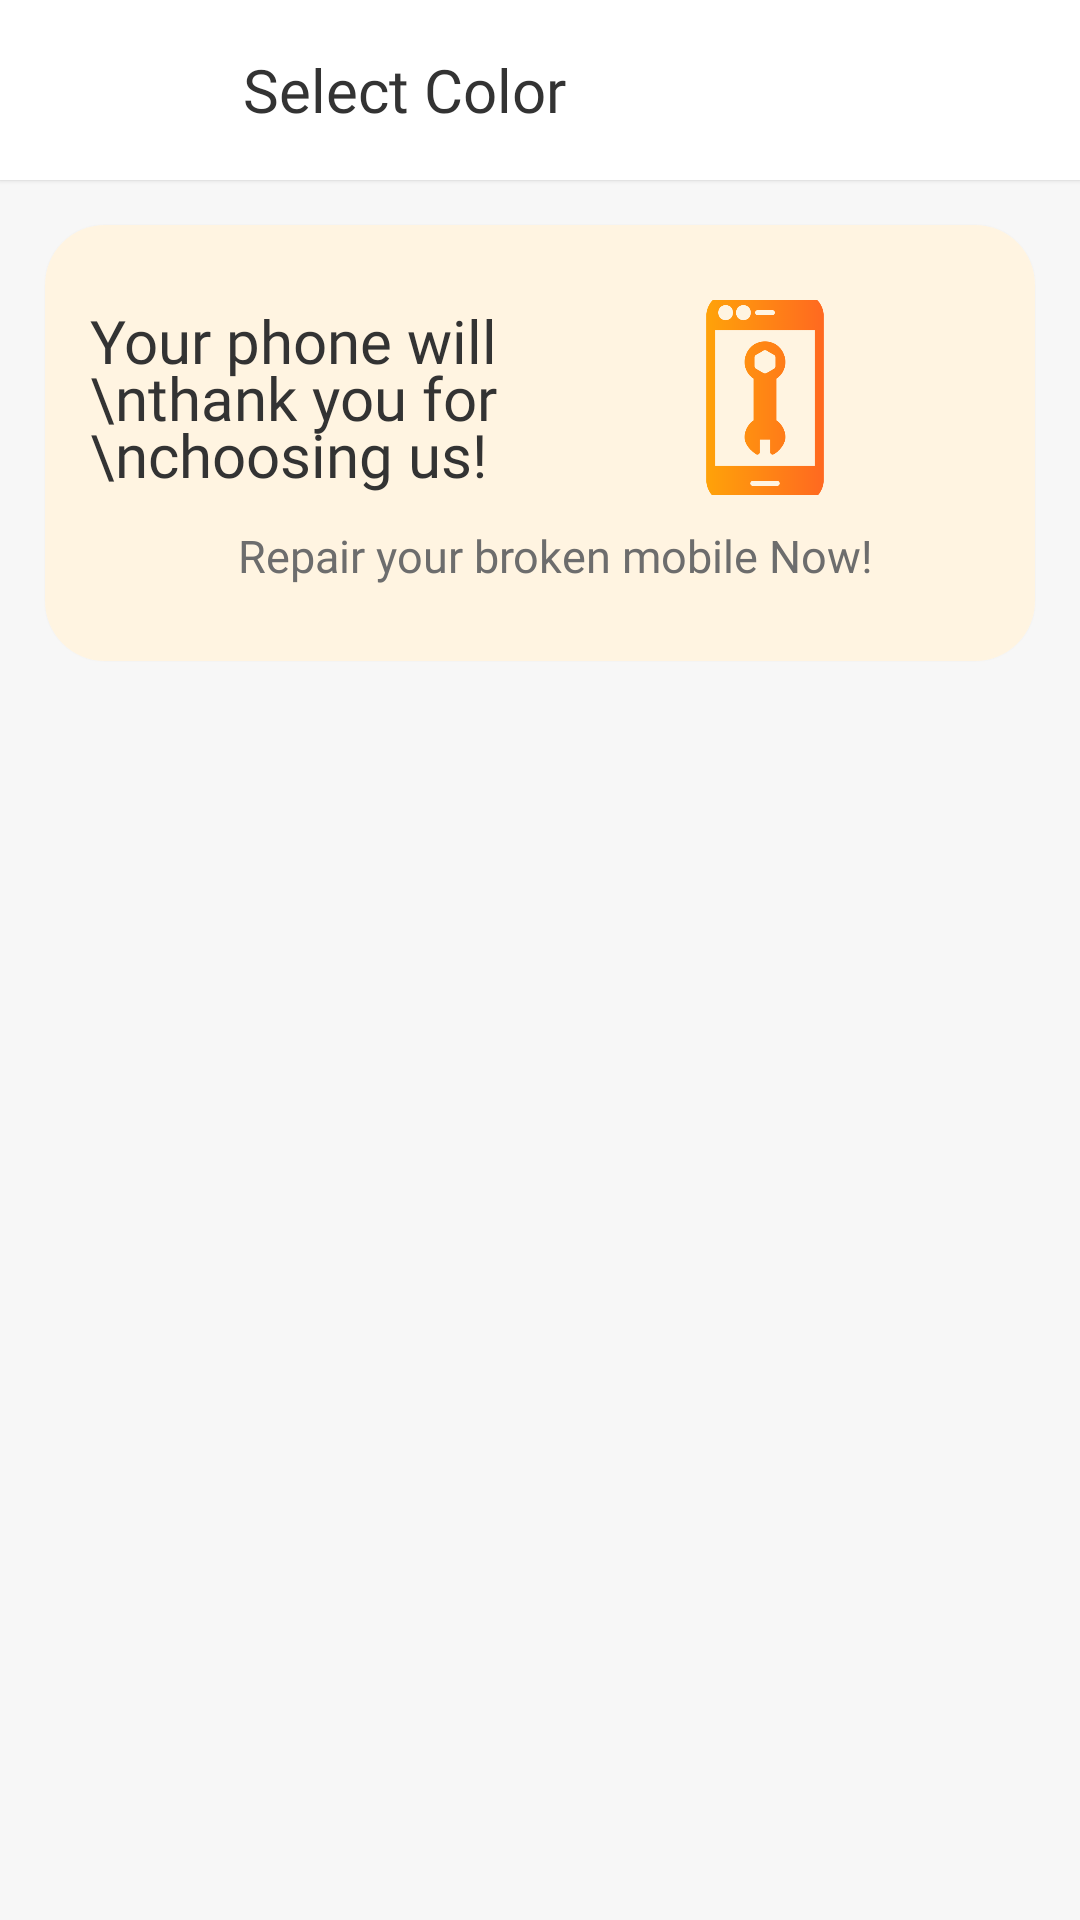

Icon click points for this 1080px×1920px phone screenshot, format (x,y):
repair service: (765,397)
